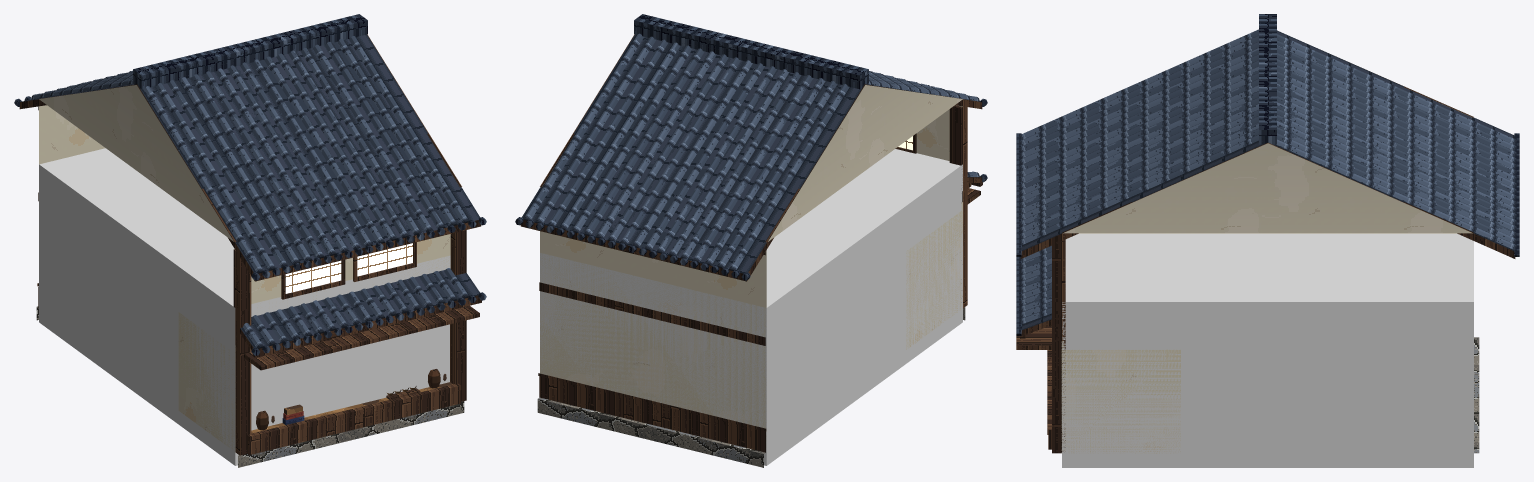
The model's file is JP_Row_Shop_A_M.glb.
3 renders of one model, left to right at view 1: azimuth 30°, elevation 25°; view 2: azimuth 150°, elevation 25°; view 3: azimuth 270°, elevation 25°, orthographic. The views are drawn at different scales.
Visible parts, largest first — view 1: JP_Row_Shop_A_M, COL_JP_Row_Shop_A_M; view 2: JP_Row_Shop_A_M, COL_JP_Row_Shop_A_M; view 3: JP_Row_Shop_A_M, COL_JP_Row_Shop_A_M.
Part boxes in pixels (x1,y1,x2,y2): JP_Row_Shop_A_M: (14, 14, 486, 467); COL_JP_Row_Shop_A_M: (39, 148, 450, 465); JP_Row_Shop_A_M: (515, 14, 987, 467); COL_JP_Row_Shop_A_M: (540, 149, 962, 465); JP_Row_Shop_A_M: (1016, 14, 1519, 453); COL_JP_Row_Shop_A_M: (1062, 233, 1473, 467).
Size of the model in its own units: 6.17 by 8.14 by 11.
12 materials, 12 textured.
